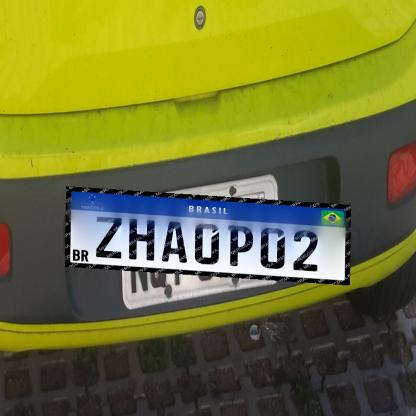PlacaM: (65, 186, 351, 286)
